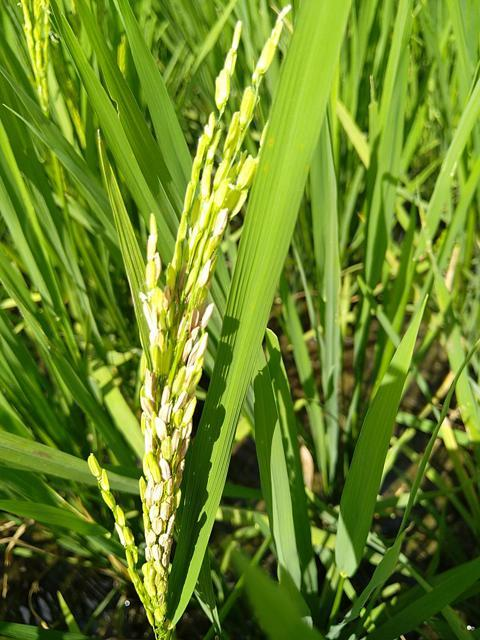Panicle Blight: (139, 3, 289, 582)
